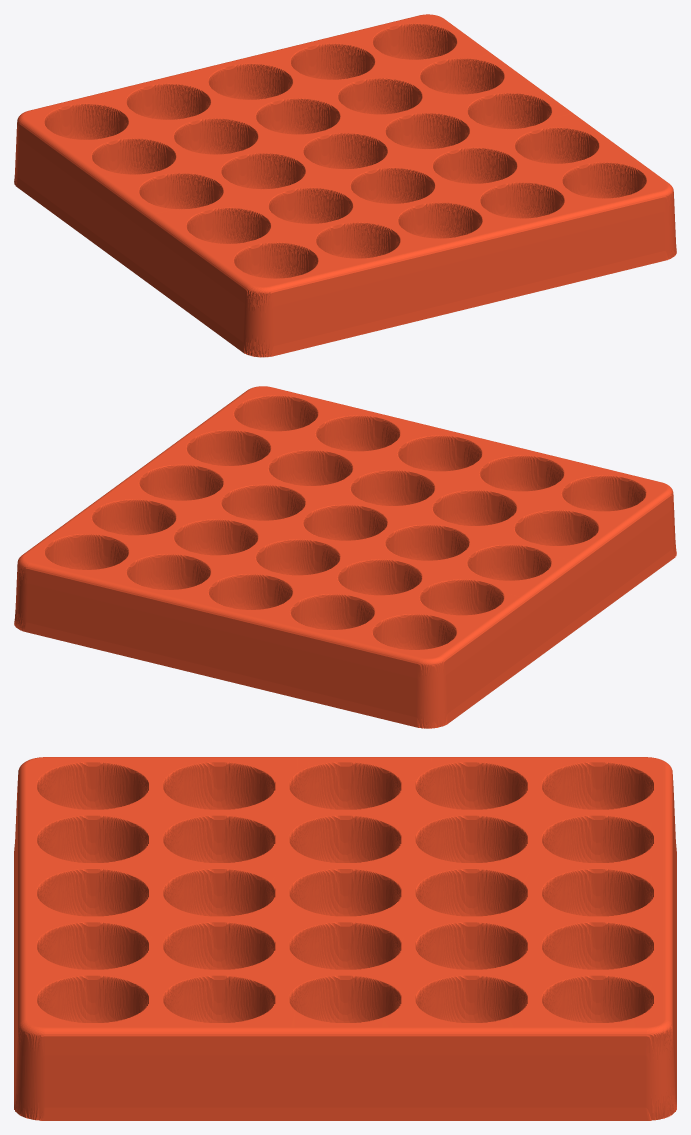
Rendered from mold.glb.
3 views of the same model, one above another, from view 1: azimuth 30°, elevation 25°; view 2: azimuth 150°, elevation 25°; view 3: azimuth 270°, elevation 25° (orthographic). The views are drawn at different scales.
Visible parts, largest first — view 1: geometry_0; view 2: geometry_0; view 3: geometry_0.
Boxes of the visible parts, x1,y1,x2,y2 form: geometry_0: (14, 14, 676, 357); geometry_0: (14, 386, 676, 728); geometry_0: (14, 757, 676, 1120).
Size of the model in its own units: 0.193 by 0.0283 by 0.193.
